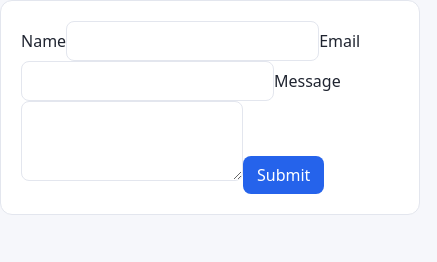
Test case: Contact Form › shows an error and no data when a field is empty
Type "John Doe" into the field labelled "Name". click: point(193, 41)
box: [66,21,319,61]
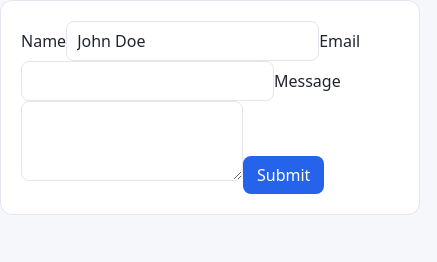
Type "Hello there!" into the text box labelled "Message". click: point(132, 141)
box: [21,101,243,181]
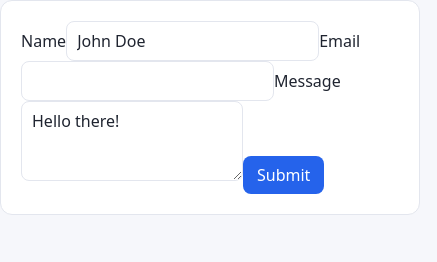
Click the button "Submit". click: point(284, 175)
box: [243,156,324,194]
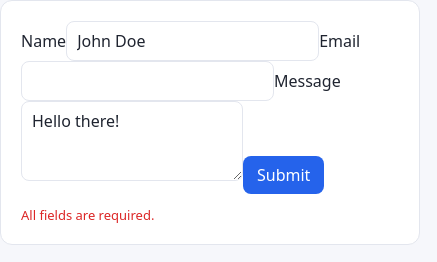
Expected: the text "All fields are required." is shown, [21,206,154,224]
